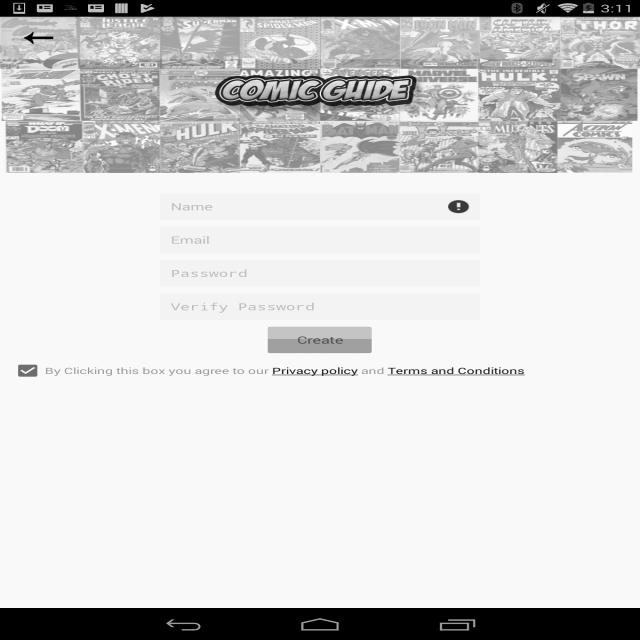Button: (268, 327, 372, 353)
CheckBox: (10, 360, 44, 381)
EditText: (160, 193, 480, 220), (160, 260, 480, 287), (160, 293, 480, 320), (160, 227, 480, 253)
ImageButton: (9, 17, 68, 59)
ImageView: (0, 17, 640, 173), (192, 75, 448, 115)
TextView: (45, 364, 525, 376)
